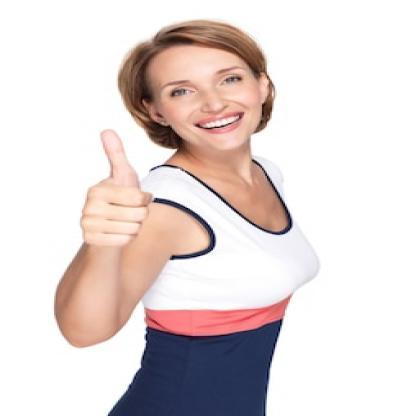thumb_up: (65, 124, 156, 252)
